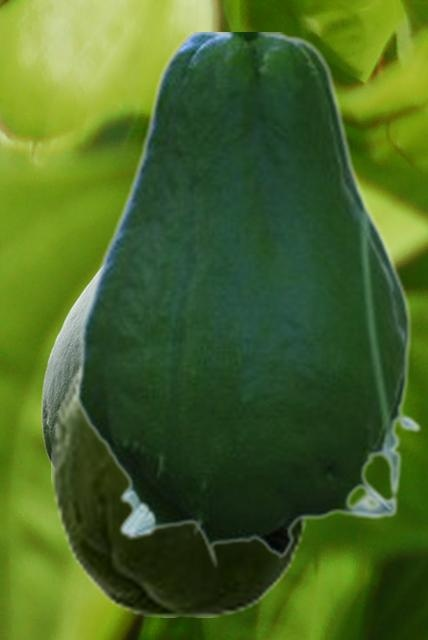sayote: (75, 32, 421, 567), (51, 358, 313, 616), (41, 268, 97, 465)
